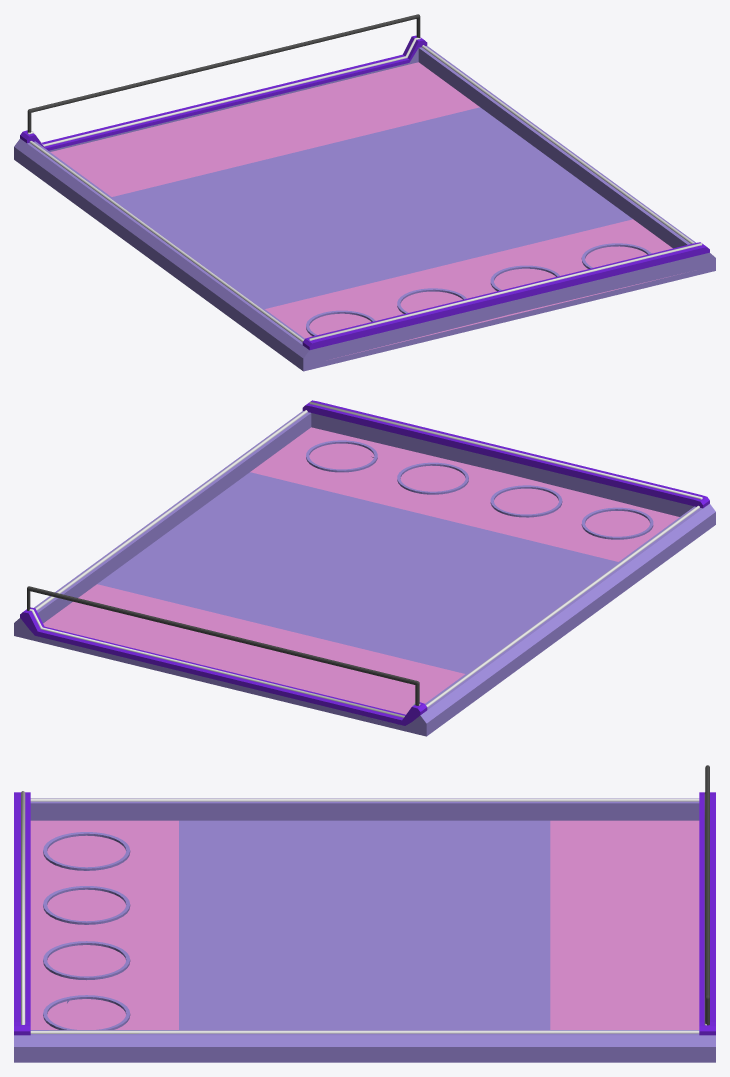
Rendered from Platform 3 Hole 4.fbx.
The picture shows the model from 3 angles, top to bottom: view 1: azimuth 30°, elevation 25°; view 2: azimuth 150°, elevation 25°; view 3: azimuth 270°, elevation 25°; orthographic projection. The views are drawn at different scales.
Visible parts, largest first — view 1: 4HolePlatform-2; view 2: 4HolePlatform-2; view 3: 4HolePlatform-2.
Boxes of the visible parts, left/top/right/bottom form: 4HolePlatform-2: left=14, top=14, right=715, bottom=371; 4HolePlatform-2: left=14, top=400, right=715, bottom=736; 4HolePlatform-2: left=14, top=765, right=715, bottom=1062.
Bounding box in the file's own units: 2504 × 289 × 3043.
